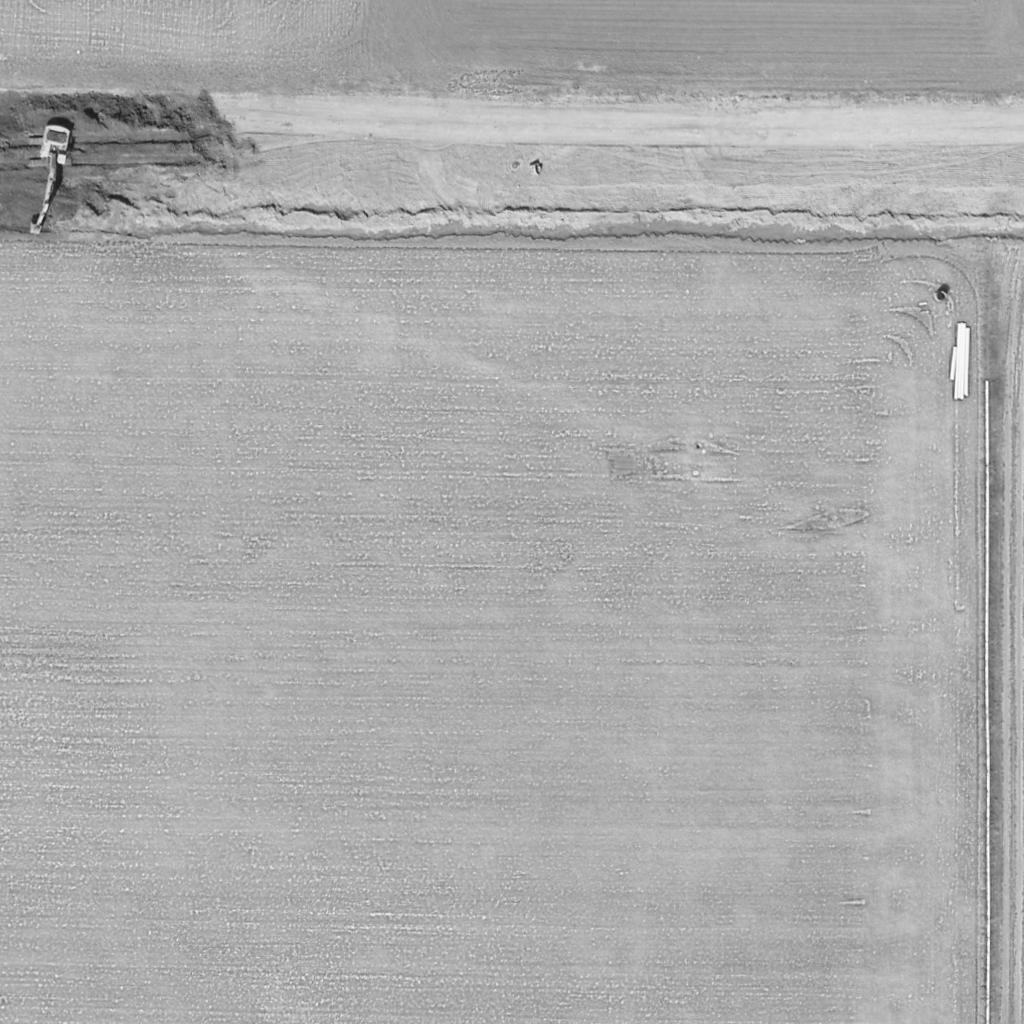vehicle: (22, 125, 72, 237)
